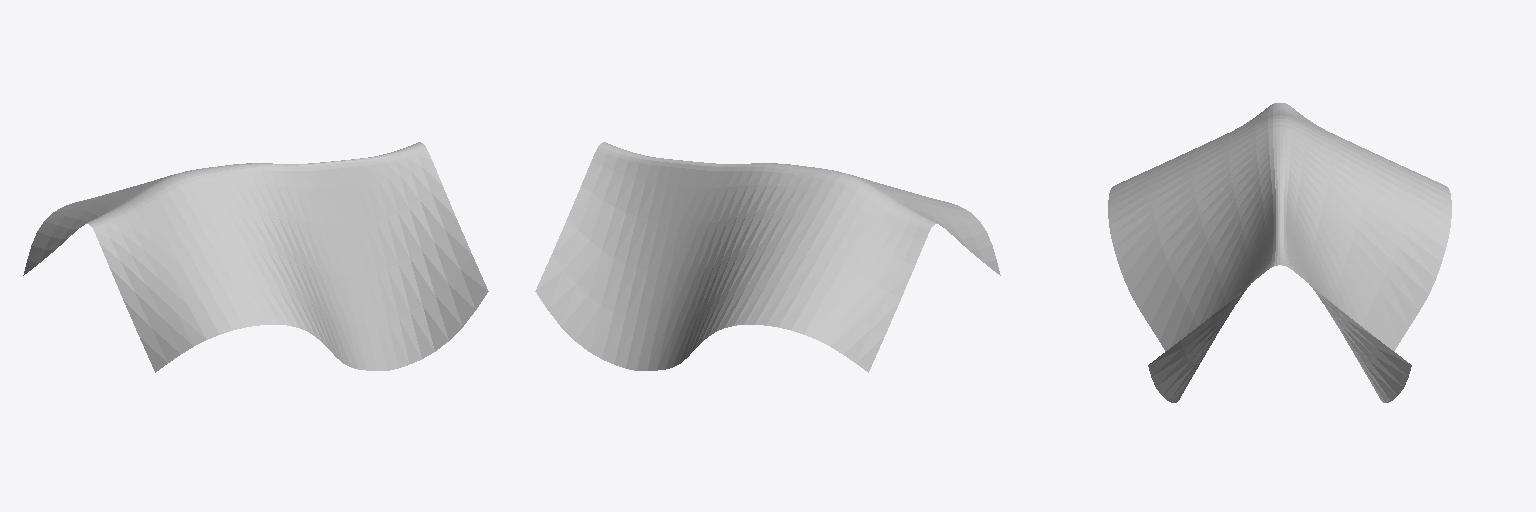
3 renders of one model, left to right at view 1: azimuth 30°, elevation 25°; view 2: azimuth 150°, elevation 25°; view 3: azimuth 270°, elevation 25°, orthographic.
Parts seen in each view (by area): view 1: strip-1-02; view 2: strip-1-02; view 3: strip-1-02.
Part boxes in pixels (x1,y1,x2,y2): strip-1-02: (23,142,488,372); strip-1-02: (535,142,1000,372); strip-1-02: (1108,103,1451,402).
Bounding box in the file's own units: 0.25 × 0.1412 × 0.2233.